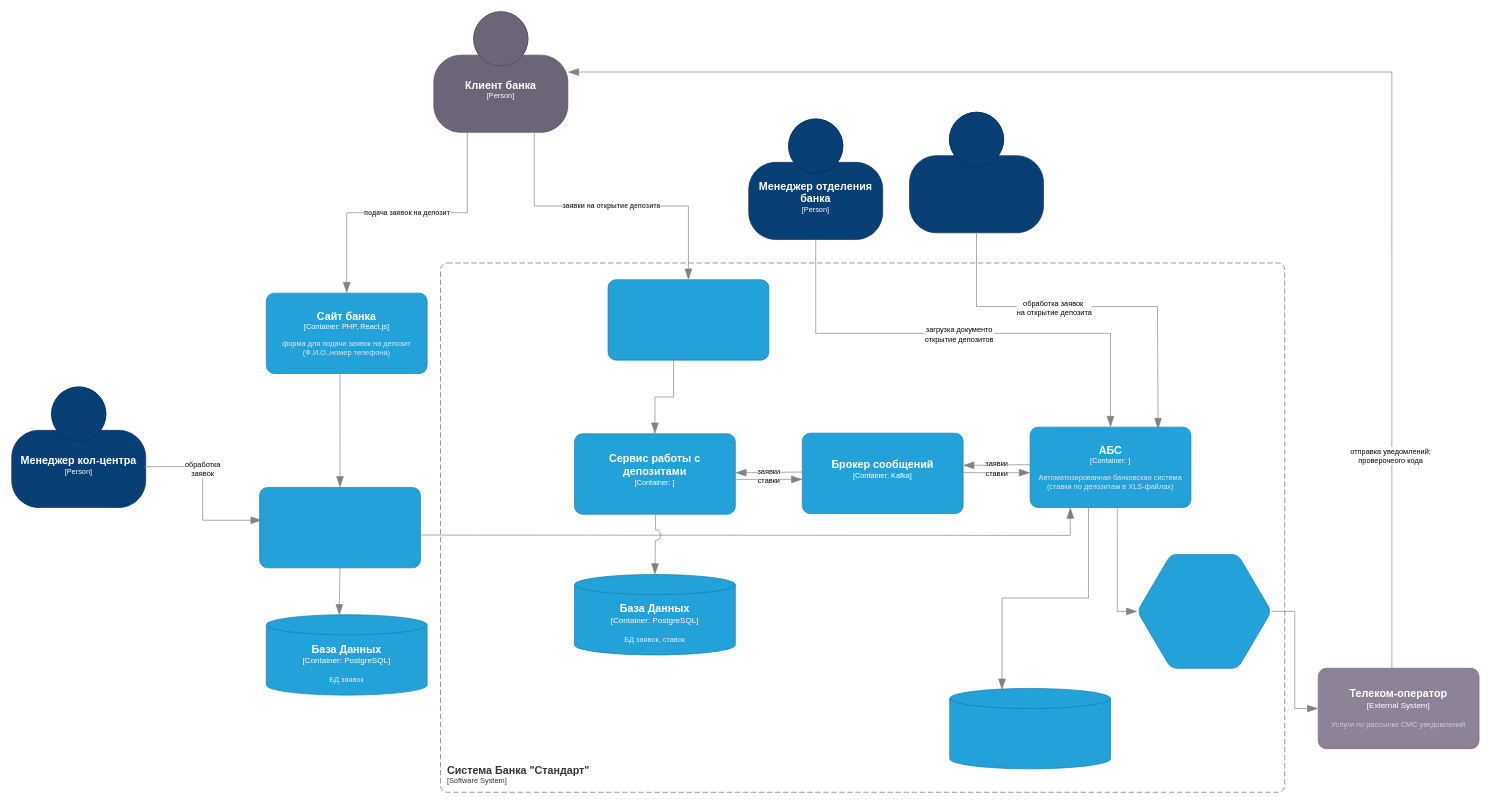
Some shapes in this 1491 by 804 pixel diagram are drawn without their labels. Here are the shapes that lost their labels. From the top down, the centre of each, then its label:
At pixel 976 172: "Менеджер бэк-офиса [Person]".
At pixel 688 319: "Интернет-банк [Container: ASP.NET MVC 4.5, .NET Framework 4.5]".
At pixel 339 527: "Система кол-центра [Container: React.js, Java Spring Boot]".
At pixel 1204 611: "Сервис отправки СМС [Container: ]".
At pixel 1030 728: "База Данных АБС [Container: MS SQL] БД договоров, бухгалтерии, операций, ...".
